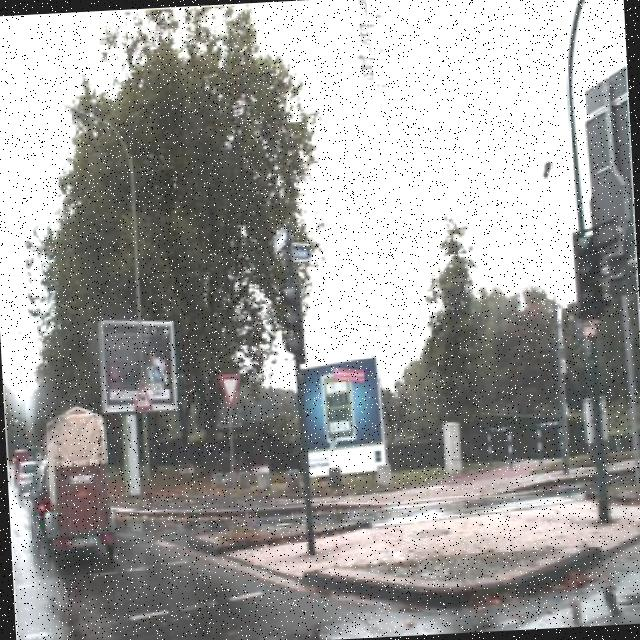Ustap pierwszenstwa: (218, 374, 243, 411)
